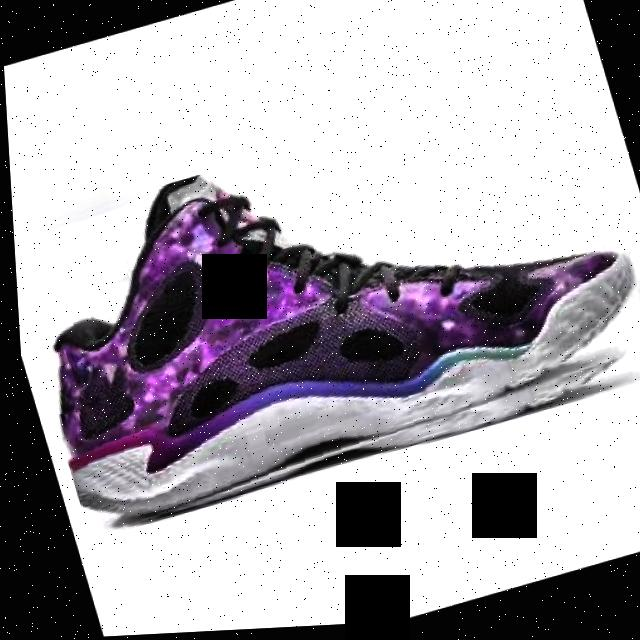shoe: (4, 66, 640, 542)
